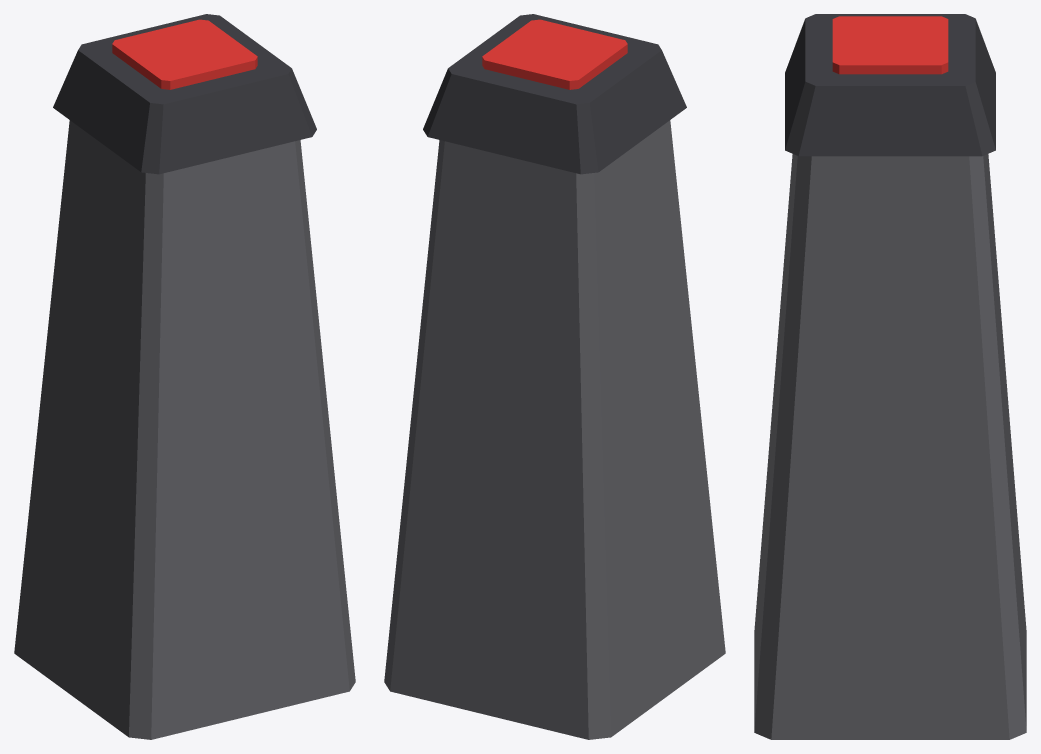
File: void_monolith_pillar_c.obj
3 views of the same model, side by side, from view 1: azimuth 30°, elevation 25°; view 2: azimuth 150°, elevation 25°; view 3: azimuth 270°, elevation 25° (orthographic). The views are drawn at different scales.
Visible parts, largest first — view 1: void_monolith_pillar_c_0, void_monolith_pillar_c_1, void_monolith_pillar_c_2; view 2: void_monolith_pillar_c_0, void_monolith_pillar_c_1, void_monolith_pillar_c_2; view 3: void_monolith_pillar_c_0, void_monolith_pillar_c_1, void_monolith_pillar_c_2.
Part boxes in pixels (x1,y1,x2,y2): void_monolith_pillar_c_0: (14, 120, 355, 739); void_monolith_pillar_c_1: (53, 14, 316, 174); void_monolith_pillar_c_2: (112, 19, 257, 89); void_monolith_pillar_c_0: (384, 120, 725, 739); void_monolith_pillar_c_1: (423, 14, 686, 174); void_monolith_pillar_c_2: (482, 19, 627, 89); void_monolith_pillar_c_0: (754, 154, 1026, 739); void_monolith_pillar_c_1: (785, 14, 995, 156); void_monolith_pillar_c_2: (832, 16, 948, 74).
Size of the model in its own units: 0.8 by 2.08 by 0.8.
